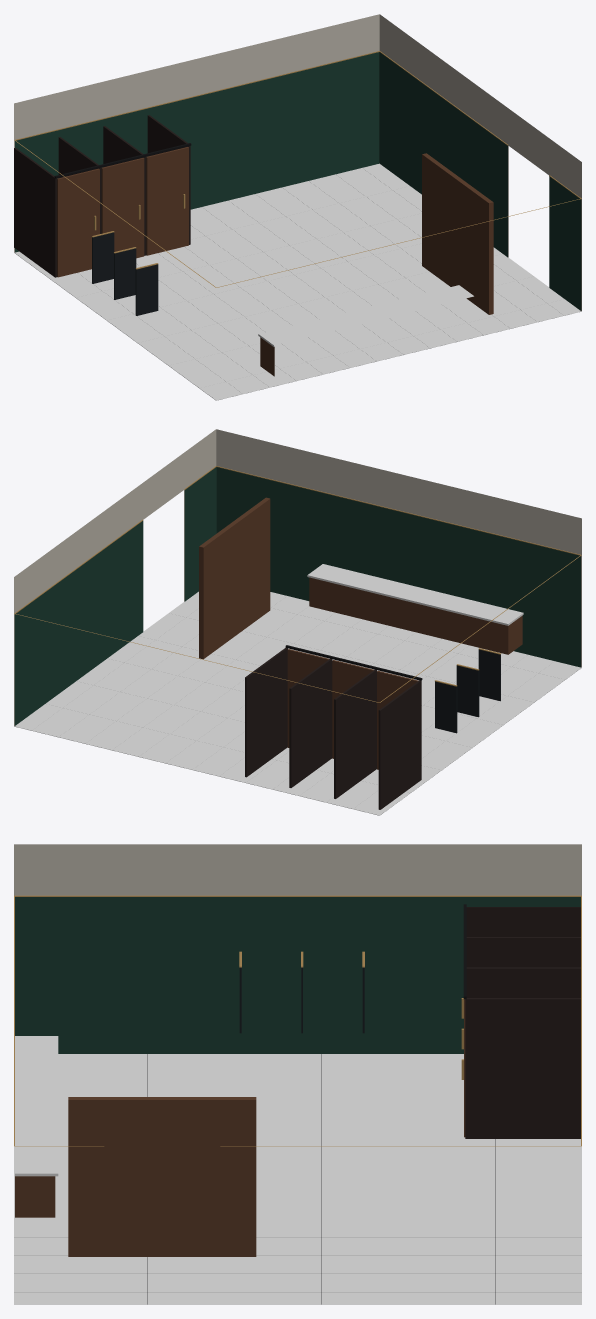
Rendered from wcM.glb.
3 renders of one model, top to bottom at view 1: azimuth 30°, elevation 25°; view 2: azimuth 150°, elevation 25°; view 3: azimuth 270°, elevation 25°, orthographic. The views are drawn at different scales.
Visible parts, largest first — view 1: wcM; view 2: wcM; view 3: wcM.
Part boxes in pixels (box(x1,y1,x2,y2)): wcM: box(14, 14, 581, 400); wcM: box(14, 429, 581, 815); wcM: box(14, 844, 581, 1304).
Size of the model in its own units: 8.21 by 3.2 by 7.85.
